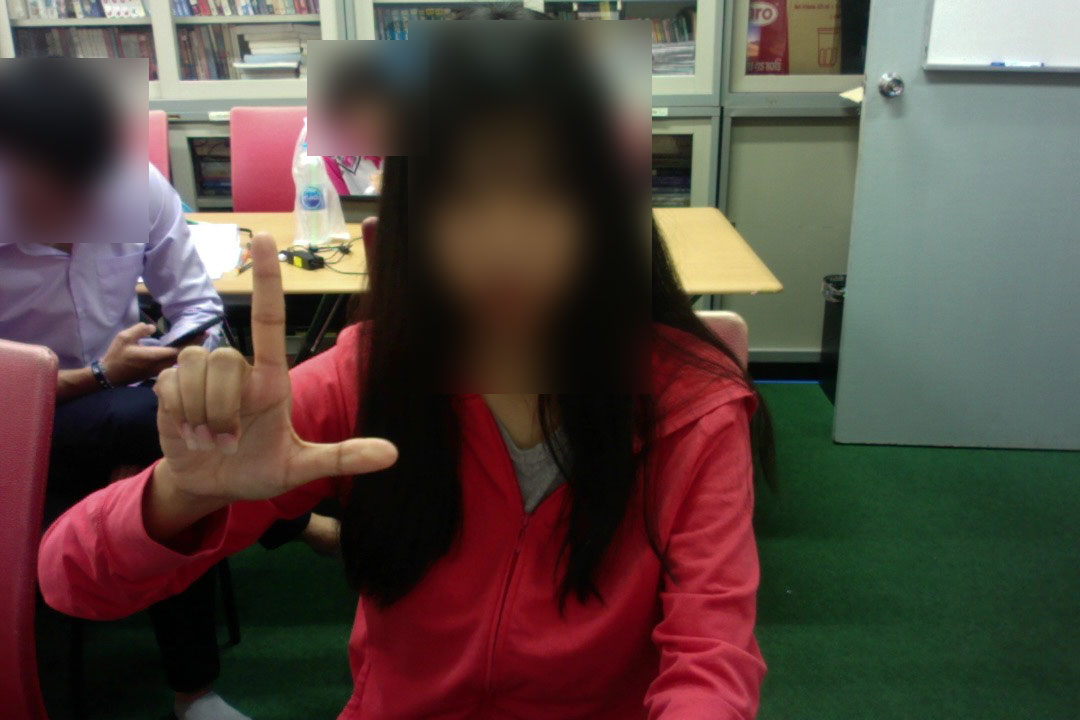lor: (110, 224, 412, 490)
